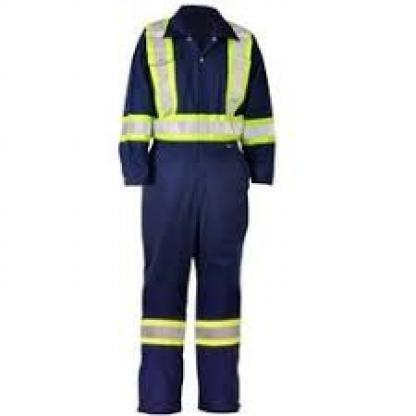vest: (122, 17, 276, 380)
